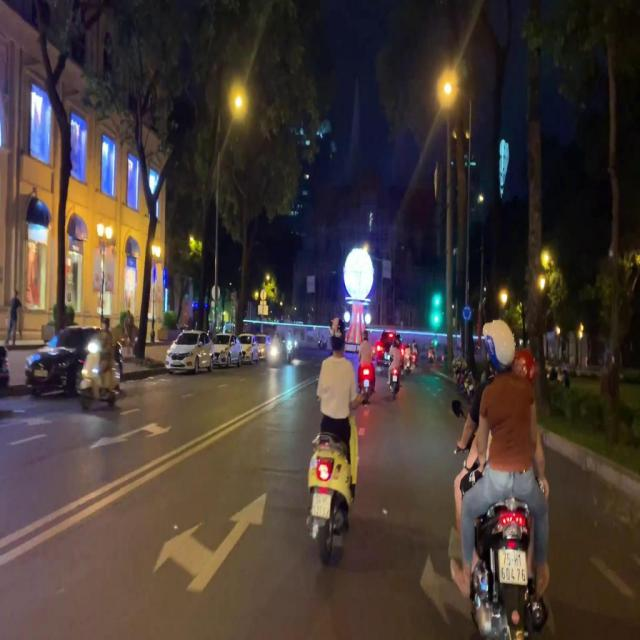noi_giao_nhau_chay_theo_vong: (462, 303, 471, 323)
